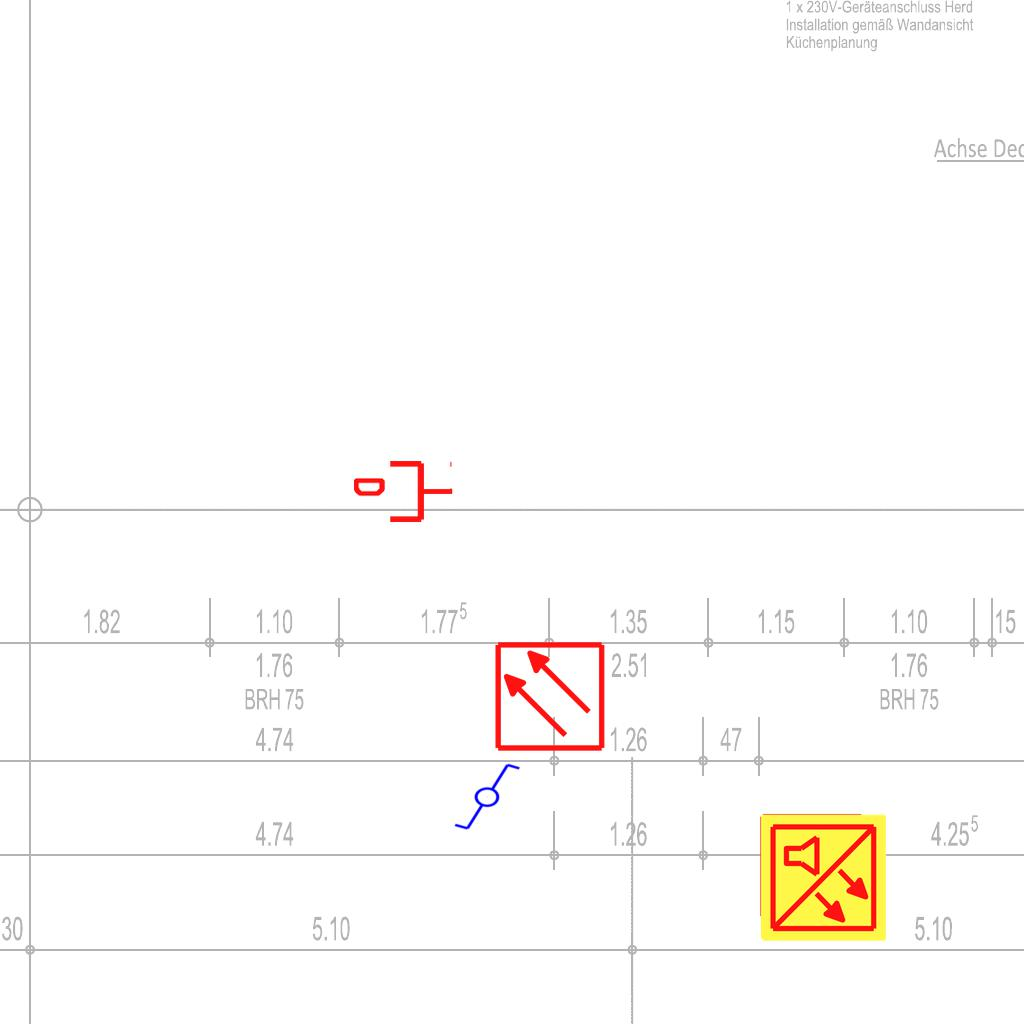Datenanschluss_einfach: (354, 457, 454, 526)
OKW_Multisensormelder_(Kombination_optischer_Rauch-Kahlenmonoxid_Waerme-Melder): (757, 812, 889, 944)
RMO_Rauchmelder_optischer: (493, 640, 606, 753)
Wechselschalter: (444, 760, 522, 832)
